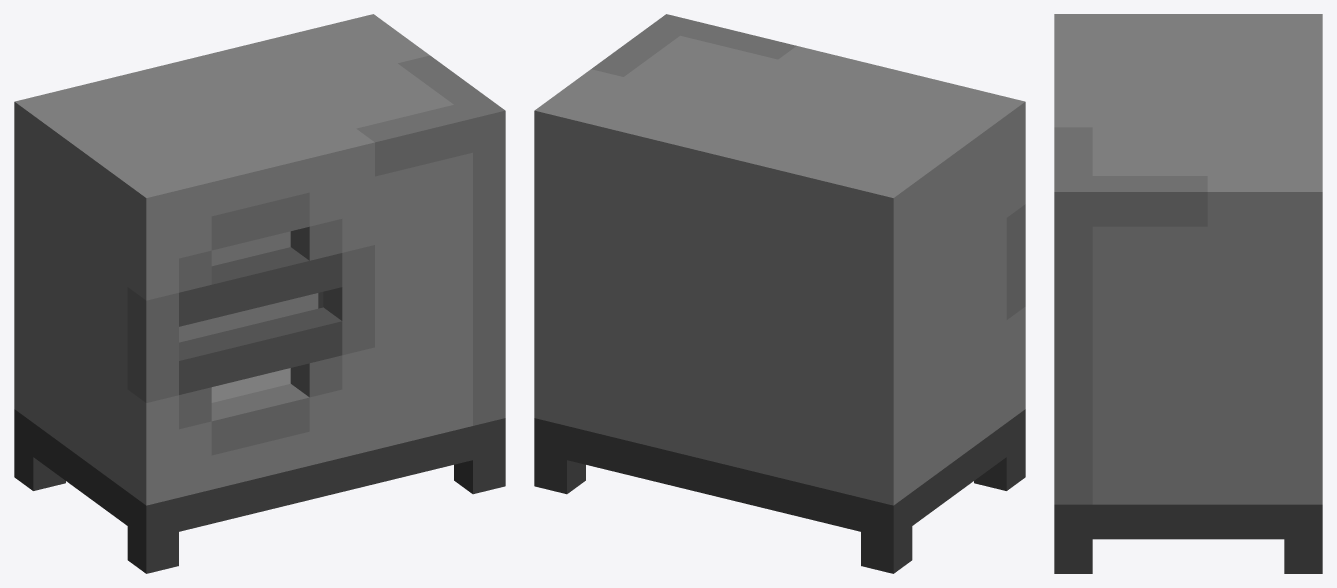
File: condenserUnit.glb
3 views of the same model, side by side, from view 1: azimuth 30°, elevation 25°; view 2: azimuth 150°, elevation 25°; view 3: azimuth 270°, elevation 25° (orthographic).
Visible parts, largest first — view 1: ObjObject; view 2: ObjObject; view 3: ObjObject.
Part boxes in pixels (x1,y1,x2,y2): ObjObject: (14, 14, 505, 573); ObjObject: (534, 14, 1025, 573); ObjObject: (1054, 14, 1322, 573).
Size of the model in its own units: 1.1 by 1.1 by 0.7.
Materials: 1 (1 with a texture image).
